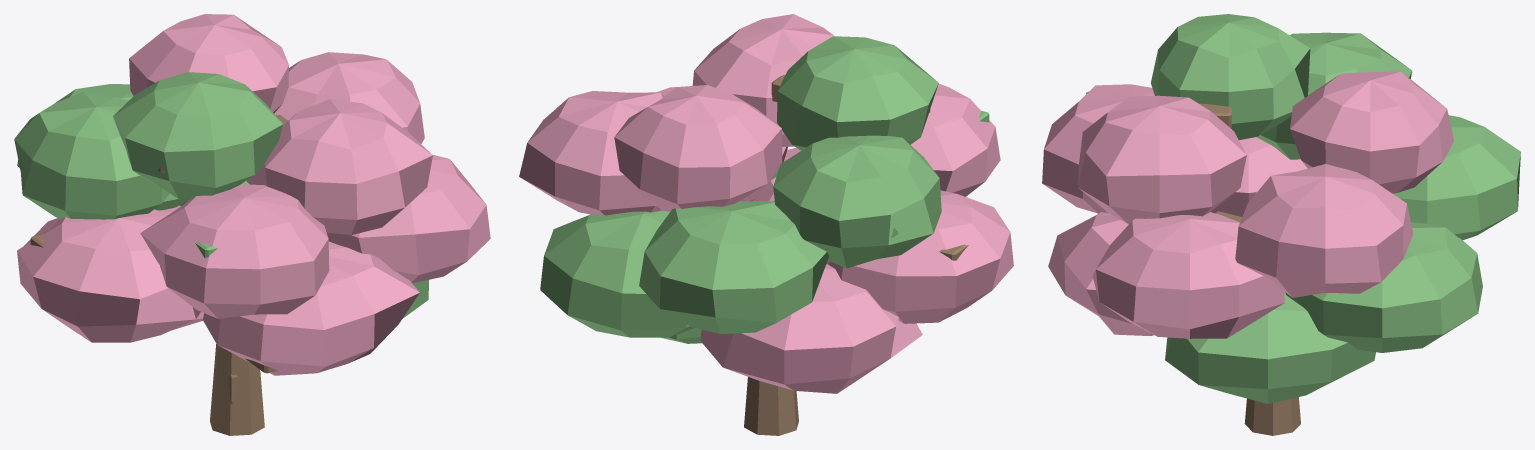
File: b08_flowering_cherry.glb
The picture shows the model from 3 angles, left to right: view 1: azimuth 30°, elevation 25°; view 2: azimuth 150°, elevation 25°; view 3: azimuth 270°, elevation 25°; orthographic projection.
Visible parts, largest first — view 1: b08_flowering_cherry; view 2: b08_flowering_cherry; view 3: b08_flowering_cherry.
Part boxes in pixels (bbox=[...]): b08_flowering_cherry: bbox=[14, 14, 490, 435]; b08_flowering_cherry: bbox=[519, 14, 1013, 435]; b08_flowering_cherry: bbox=[1042, 14, 1520, 435].
Size of the model in its own units: 4.76 by 4.05 by 4.73.
